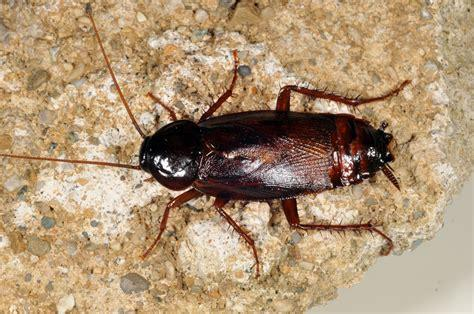cockroach: (123, 76, 409, 239)
